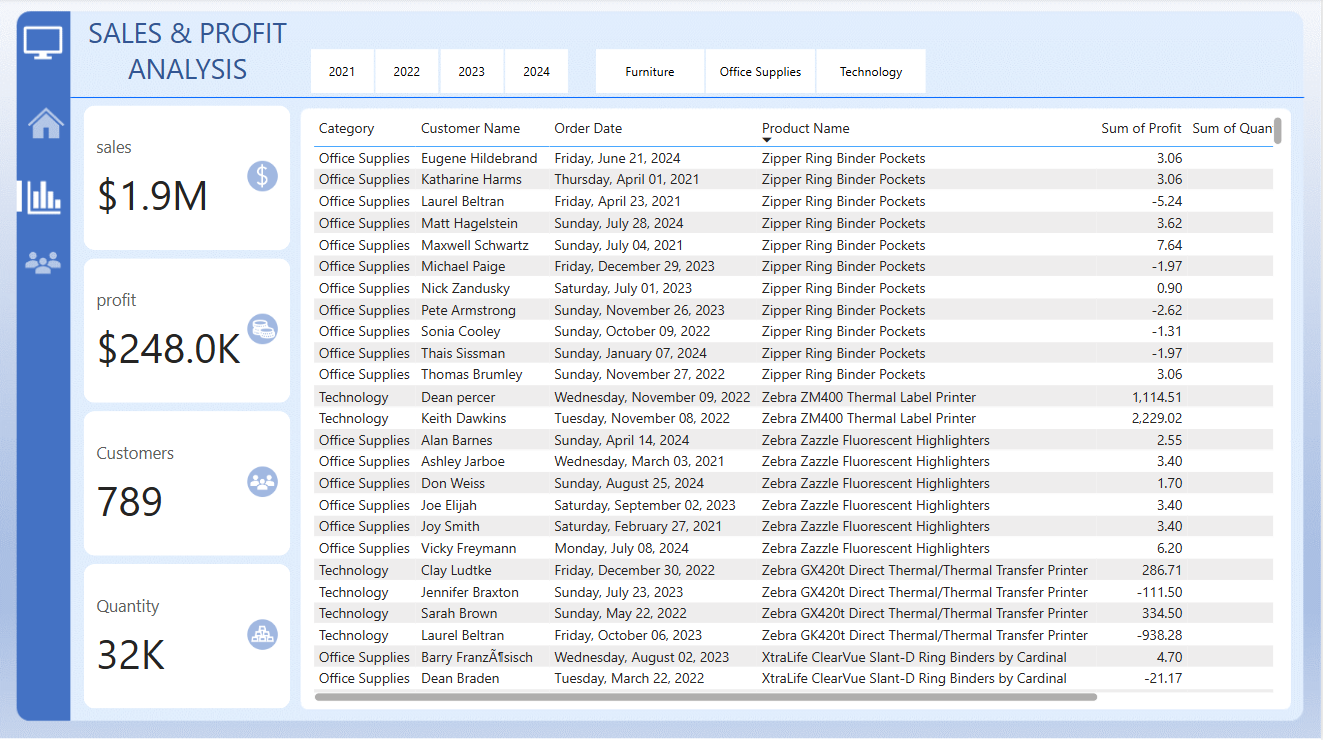

The page's visual inventory and layout, read from the dashboard file:
{"tool":"powerbi","page":{"name":"Sales Details","canvas":[1280,720],"ordinal":1},"visuals":[{"type":"cardVisual","fields":{"Data":["_Measures.sales","_Measures.profit","_Measures.Customers","_Measures.Quantity"]},"box":[76.3,99.3,210.6,596.8],"z":0},{"type":"slicer","fields":{"Values":["Calendar.Year"]},"box":[274.3,42.6,299.3,56.4],"z":1000},{"type":"slicer","fields":{"Values":["Data.Category"]},"box":[551.1,42.6,369.5,56.4],"z":2000},{"type":"textbox","box":[76.4,10,210.4,100.2],"z":3000},{"type":"tableEx","fields":{"Values":["Data.Category","Data.Customer Name","Data.Order Date","Data.Product Name","Sum(Data.Profit)","Sum(Data.Quantity)","Sum(Data.Sales)","Data.State"]},"box":[298.1,110.2,949.4,576.1],"z":4000}]}

Visuals, with their boxes on the page's 1280x720 design canvas (x1, y1, x2, y2). These are canvas units, not pixel positions in the 1323x740 screenshot, which may show the page scaled, cropped or inside an application window:
cardVisual - _Measures.sales x _Measures.profit: <box>76,99,287,696</box>
slicer - Calendar.Year: <box>274,43,574,99</box>
slicer - Data.Category: <box>551,43,921,99</box>
textbox: <box>76,10,287,110</box>
tableEx - Data.Category x Data.Customer Name: <box>298,110,1248,686</box>
